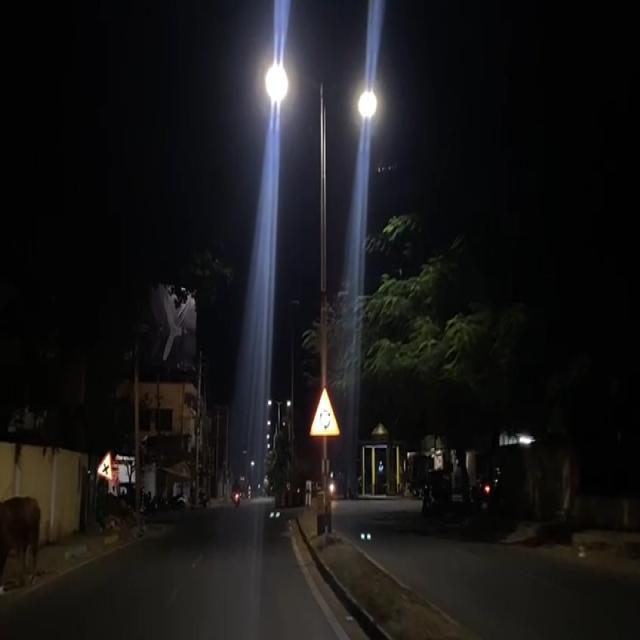bien_cam: (308, 385, 341, 440), (96, 448, 114, 482)
